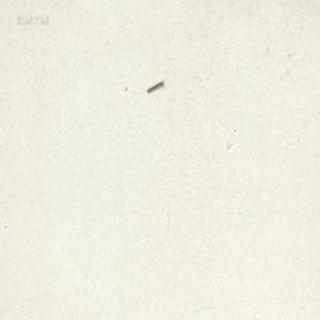Bolttrack_idkeyframe: (145, 78, 162, 91)
